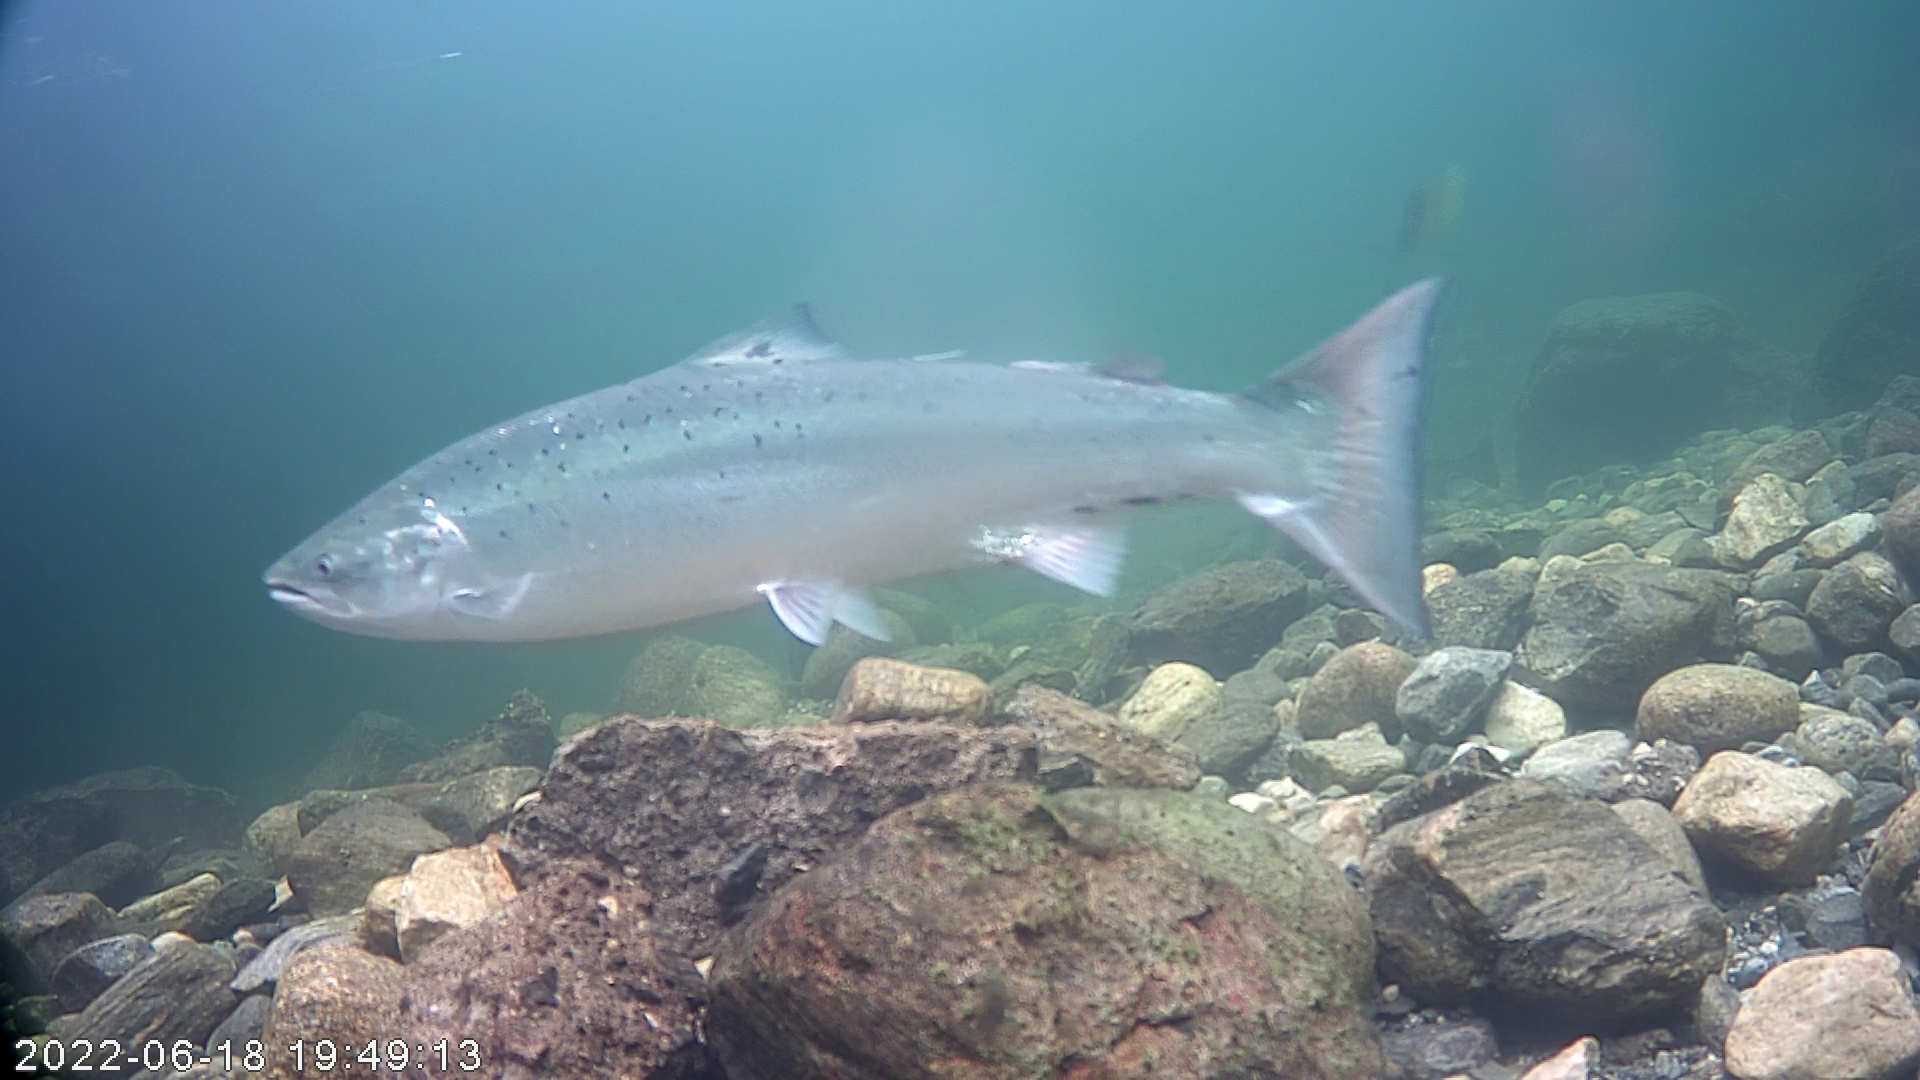salmon: (258, 273, 1445, 651)
